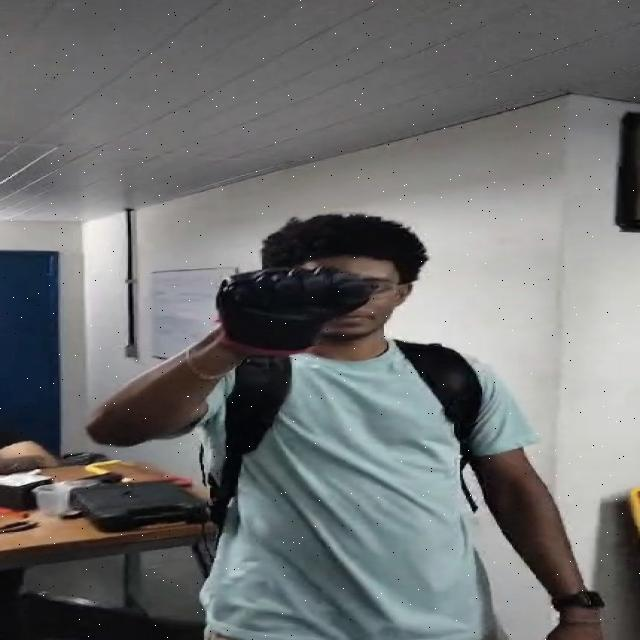Gloves: (204, 263, 378, 360)
